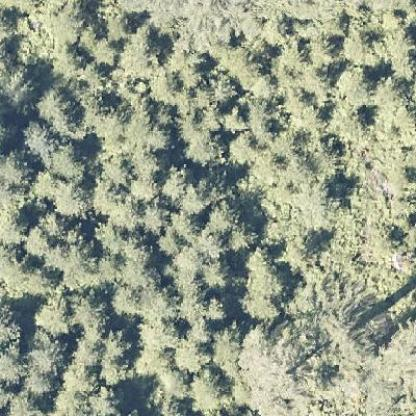tree-top: (116, 25, 166, 72), (239, 90, 279, 148), (16, 118, 62, 166), (338, 21, 382, 65), (215, 41, 261, 82), (1, 62, 40, 110), (30, 293, 73, 336), (333, 63, 370, 110), (181, 124, 224, 164), (49, 35, 90, 74), (158, 160, 194, 203), (109, 281, 146, 316), (97, 326, 130, 362), (176, 183, 214, 213), (155, 225, 187, 254)
